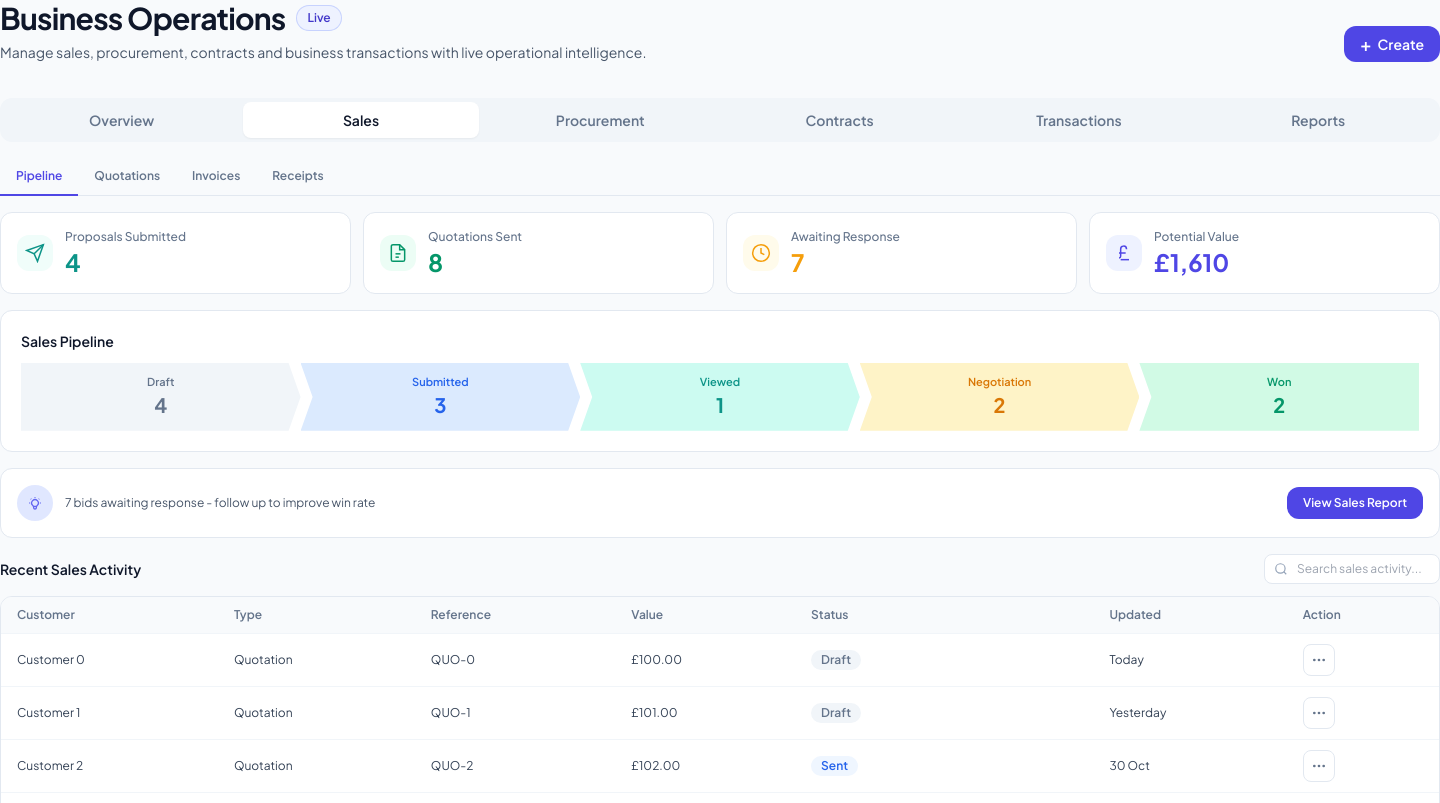
Test: Inbound marketplace requests and the Agent › each row says where the Agent has got to, with a link to its task
Click the button "Quotations".
click(127, 177)  # box [78,158,176,196]
(page scrolled)
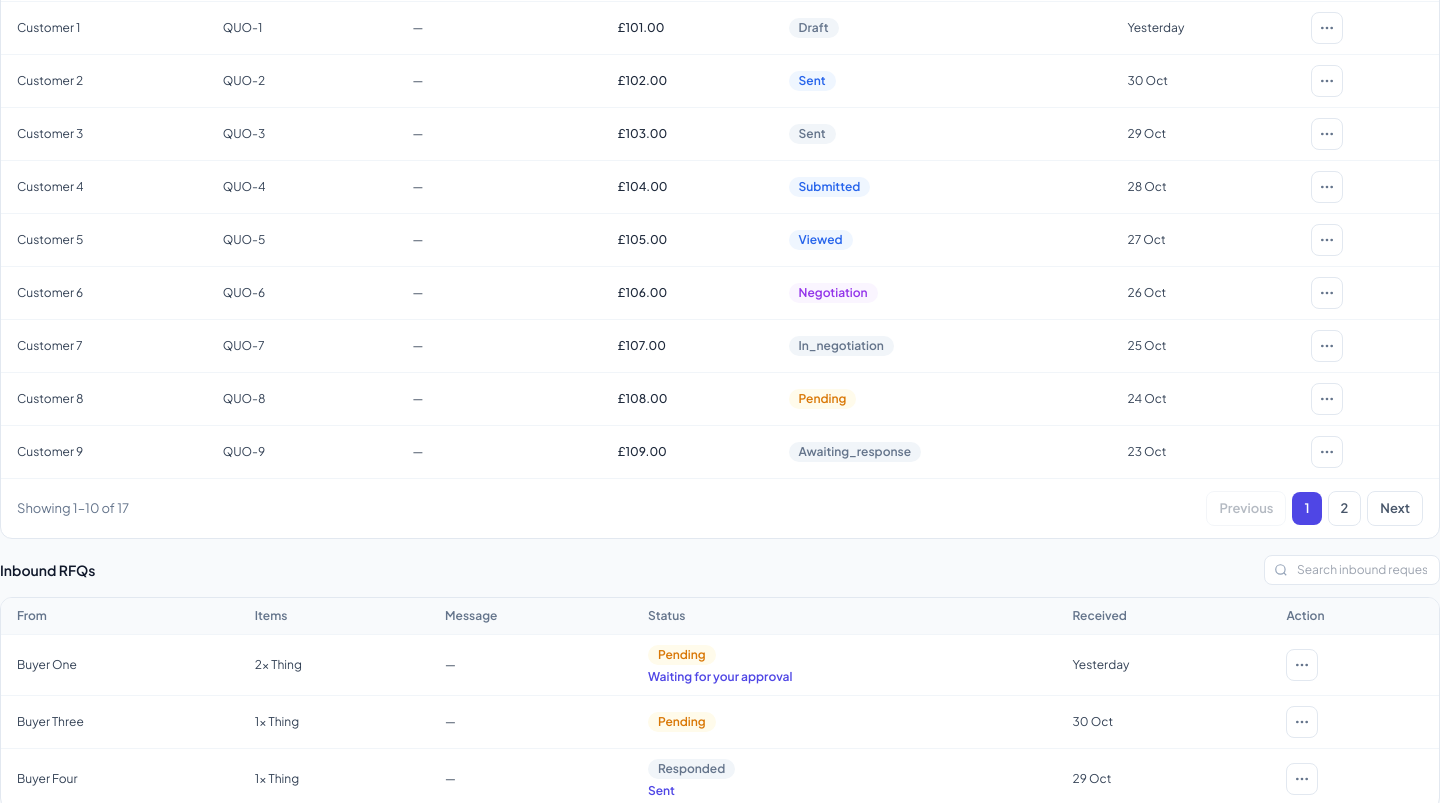
Result: the link "Waiting for your approval" is shown at [648,669,792,685]
Result: the link "Sent" is shown at [648,783,675,799]
